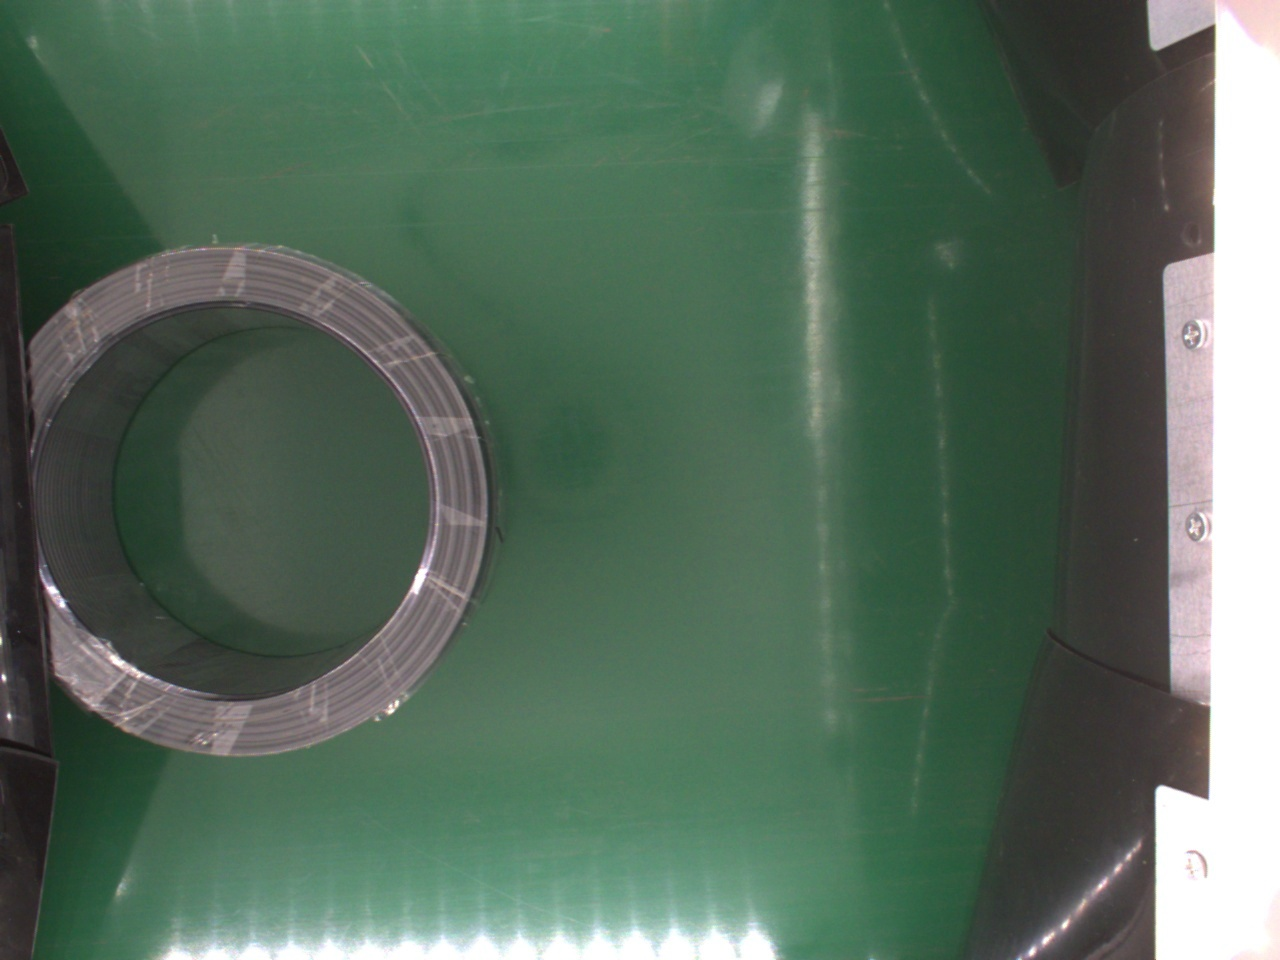black: (21, 248, 497, 761)
